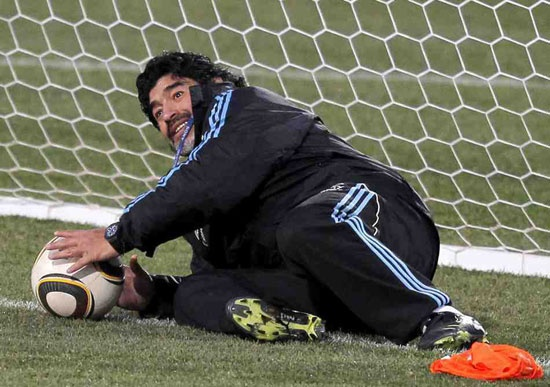falling: (20, 22, 534, 364)
